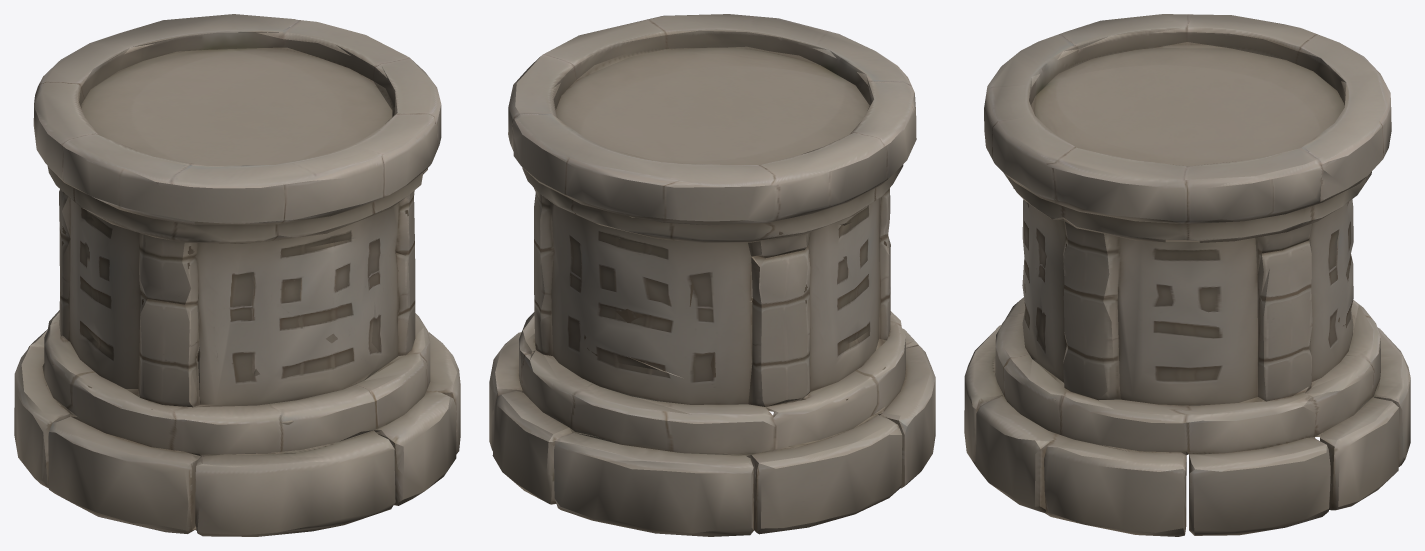
The model's file is baseTowers.fbx.
The picture shows the model from 3 angles, left to right: view 1: azimuth 30°, elevation 25°; view 2: azimuth 150°, elevation 25°; view 3: azimuth 270°, elevation 25°; orthographic projection.
Parts seen in each view (by area): view 1: BaseTower; view 2: BaseTower; view 3: BaseTower.
Boxes of the visible parts, x1=… form: BaseTower: x1=14, y1=14, x2=460, y2=536; BaseTower: x1=489, y1=14, x2=935, y2=536; BaseTower: x1=964, y1=14, x2=1410, y2=536.
Size of the model in its own units: 91.45 by 79.01 by 91.4.
1 material, 1 textured.
